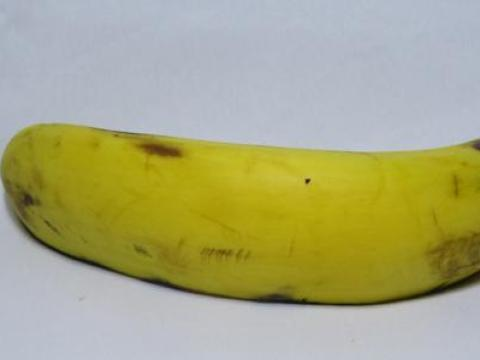freshripe: (0, 107, 479, 313)
